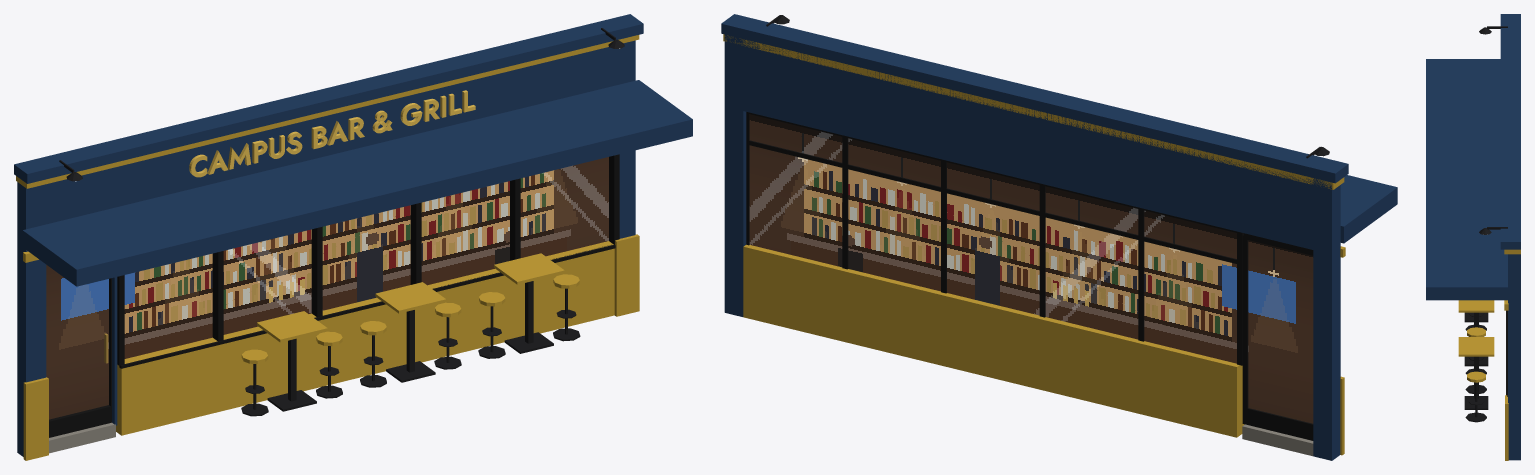
The model's file is campus_bar.glb.
The picture shows the model from 3 angles, left to right: view 1: azimuth 30°, elevation 25°; view 2: azimuth 150°, elevation 25°; view 3: azimuth 270°, elevation 25°; orthographic projection. The views are drawn at different scales.
Parts seen in each view (by area): view 1: CampusBar; view 2: CampusBar; view 3: CampusBar.
Boxes of the visible parts, x1,y1,x2,y2 form: CampusBar: (14,14,692,460); CampusBar: (721,14,1397,460); CampusBar: (1426,14,1520,460).
Size of what is drawn, in the model's own units: 9.1 by 4.1 by 1.6.
12 materials, 1 textured.
